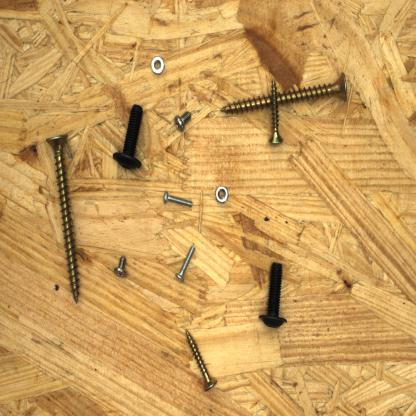screw: (40, 131, 83, 308), (218, 67, 352, 118), (106, 96, 152, 174), (181, 326, 223, 397), (254, 257, 292, 330), (266, 76, 286, 148), (172, 240, 197, 284), (161, 189, 197, 212), (172, 106, 196, 136), (113, 251, 130, 278)
